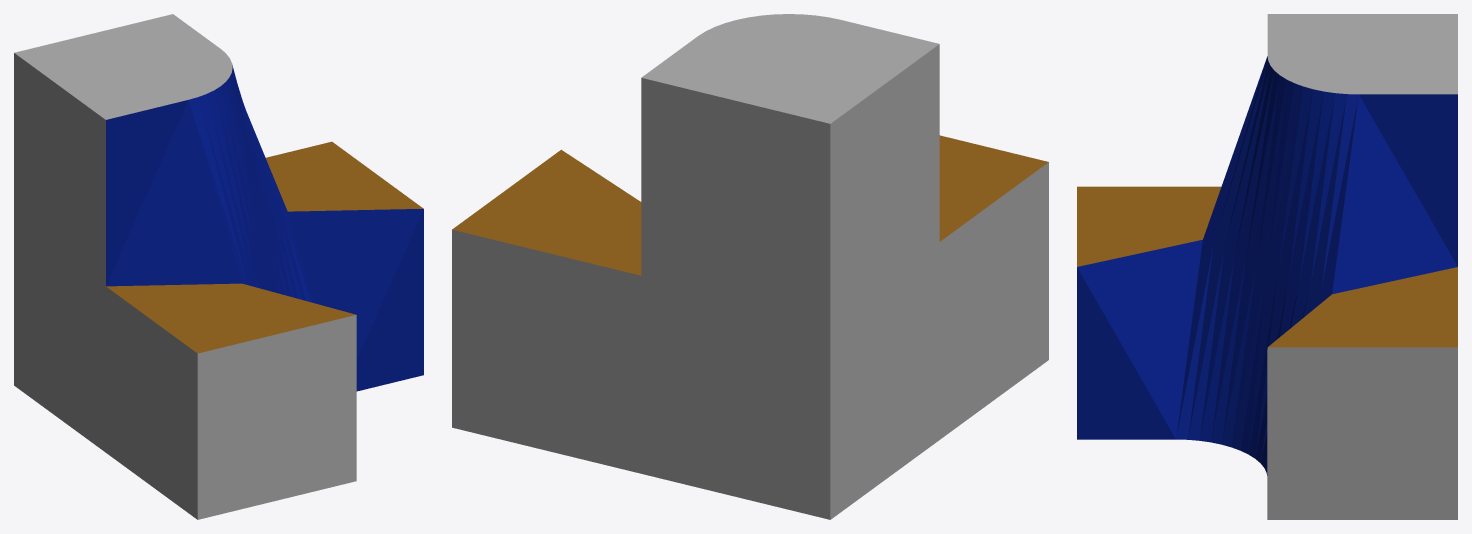
The model's file is case_27.fbx.
The picture shows the model from 3 angles, left to right: view 1: azimuth 30°, elevation 25°; view 2: azimuth 150°, elevation 25°; view 3: azimuth 270°, elevation 25°; orthographic projection. The views are drawn at different scales.
Visible parts, largest first — view 1: case_27; view 2: case_27; view 3: case_27.
Part boxes in pixels (bbox=[...]): case_27: bbox=[14, 14, 423, 519]; case_27: bbox=[452, 14, 1048, 519]; case_27: bbox=[1077, 14, 1457, 519].
Size of the model in its own units: 1 by 1 by 1.
